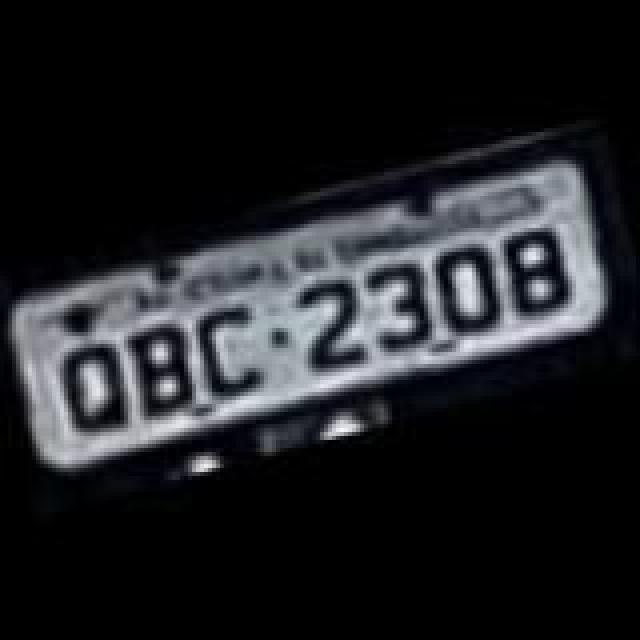2: (286, 270, 382, 378)
3: (360, 256, 444, 360)
8: (494, 214, 582, 326)
B: (114, 320, 202, 428)
C: (188, 296, 272, 404)
O: (426, 236, 506, 344)
Q: (48, 330, 140, 442)
